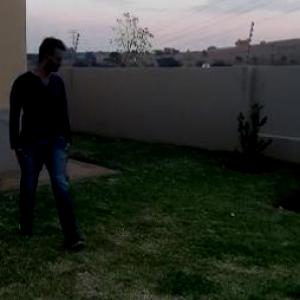follow: (9, 26, 87, 257)
